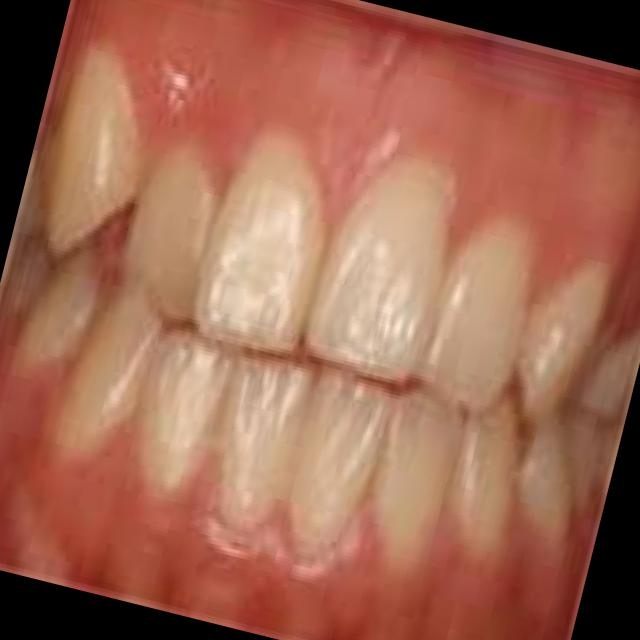Tooth: (305, 161, 454, 381), (195, 132, 326, 351), (417, 218, 533, 404), (45, 48, 142, 257), (288, 369, 388, 556), (52, 285, 160, 454), (119, 140, 216, 325), (136, 320, 236, 499), (221, 353, 312, 534), (513, 260, 608, 421), (379, 394, 462, 573), (451, 390, 521, 566), (14, 246, 105, 369), (522, 414, 576, 543)
